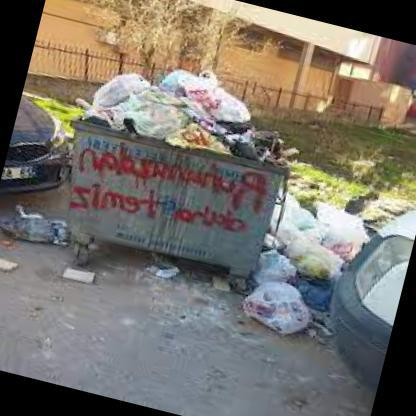Garbage: (81, 40, 304, 168), (276, 193, 370, 266), (228, 278, 310, 347), (80, 58, 149, 131), (206, 110, 294, 166), (114, 83, 193, 141), (0, 199, 68, 262), (158, 112, 238, 162), (185, 74, 256, 128), (266, 198, 316, 258), (282, 264, 339, 314), (120, 251, 183, 284), (288, 238, 332, 280), (252, 256, 296, 296), (150, 64, 198, 98)
